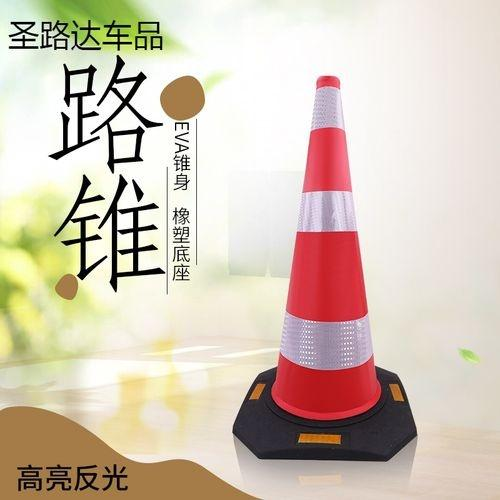cone_barrel: (246, 78, 402, 431)
